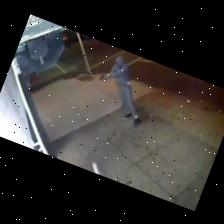person: (100, 56, 140, 127)
